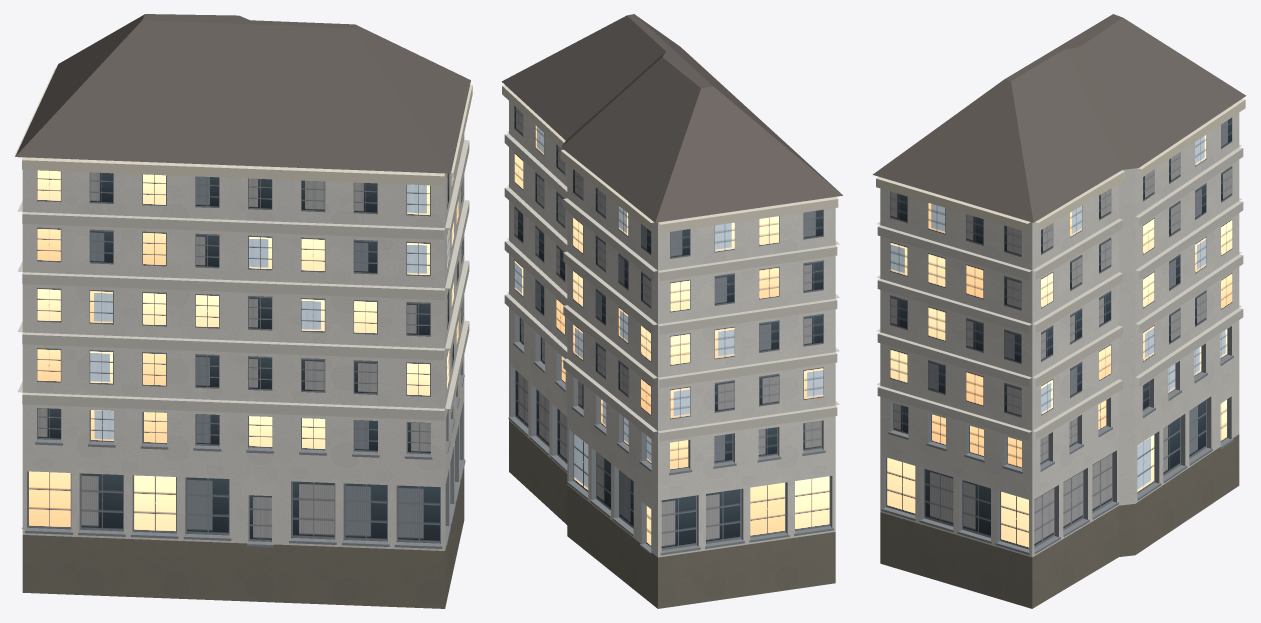
3 views of the same model, side by side, from view 1: azimuth 30°, elevation 25°; view 2: azimuth 150°, elevation 25°; view 3: azimuth 270°, elevation 25° (orthographic). The views are drawn at different scales.
Visible parts, largest first — view 1: z3c_zy_s1; view 2: z3c_zy_s1; view 3: z3c_zy_s1.
Part boxes in pixels (x1,y1,x2,y2): z3c_zy_s1: [14, 14, 472, 608]; z3c_zy_s1: [501, 14, 842, 608]; z3c_zy_s1: [872, 14, 1246, 608].
Bounding box in the file's own units: 22.8 × 27.69 × 19.76.
Materials: 3 (3 with a texture image).
